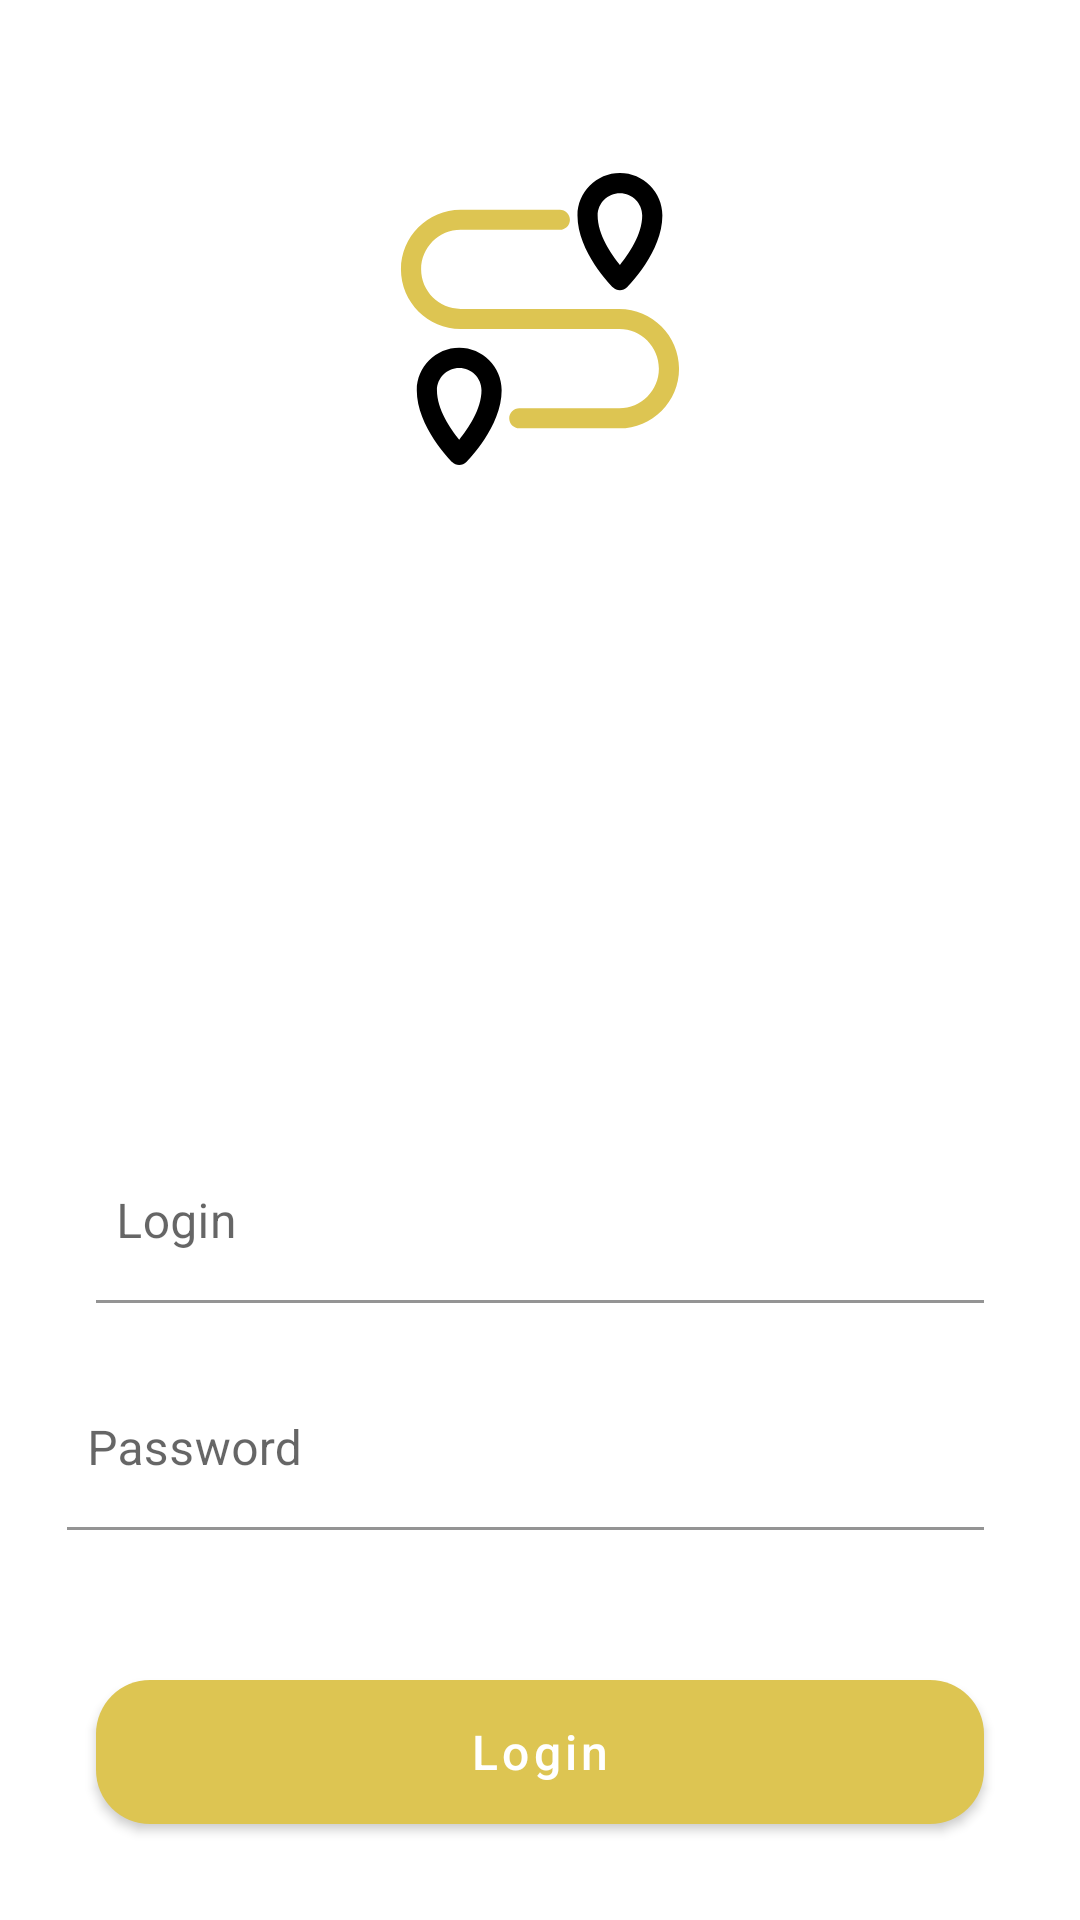

Named icons in this screenshot (1080px×1920px) and their centers, (x,y):
route: (540,319)
